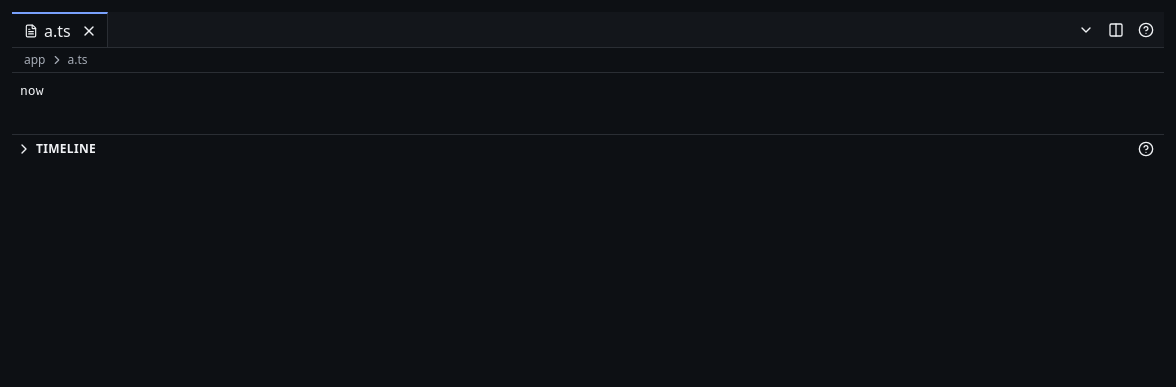
Test case: the Timeline has no accessibility violation — plan 07, S-352 › with versions listed, a version picked and a refusal said
Click the button "Timeline" at {"x": 66, "y": 148}, box [16, 135, 1128, 163]
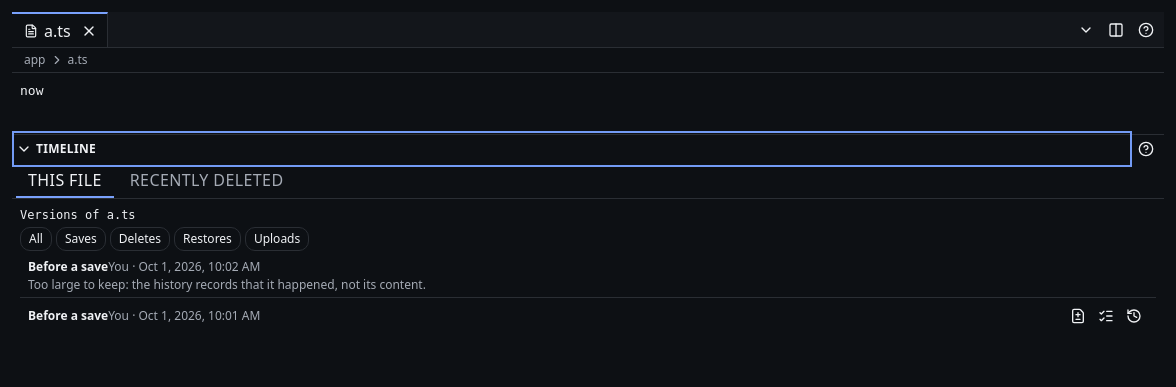
Click the button named "Pick the version of Oct 1, 2026, 10:01 AM to compare with an" at {"x": 1106, "y": 316}, box [1092, 302, 1120, 330]
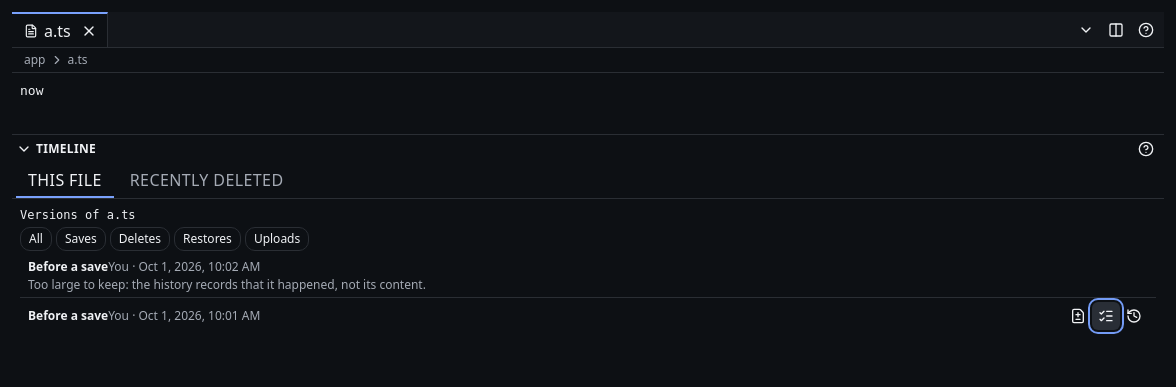
Click the button named "Restore the version of Oct 1, 2026, 10:01 AM" at {"x": 1134, "y": 316}, box [1120, 302, 1148, 330]
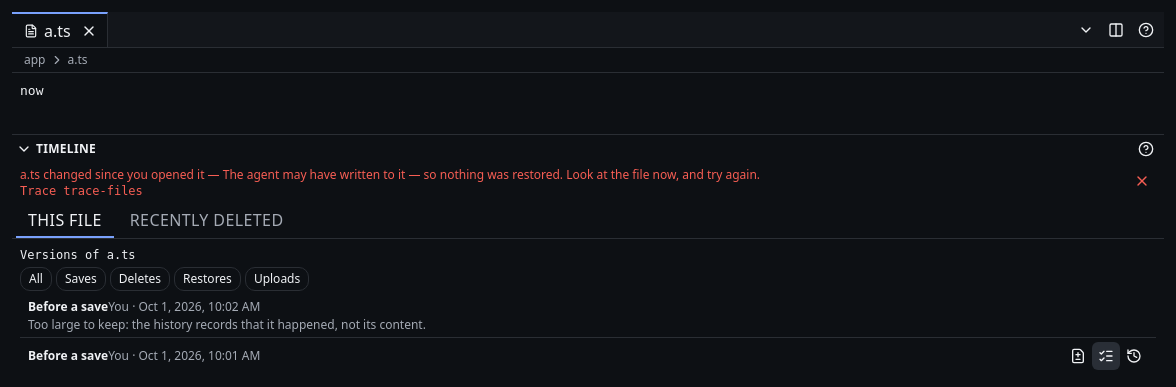
Check: the message is shown, box [12, 163, 1164, 203]
